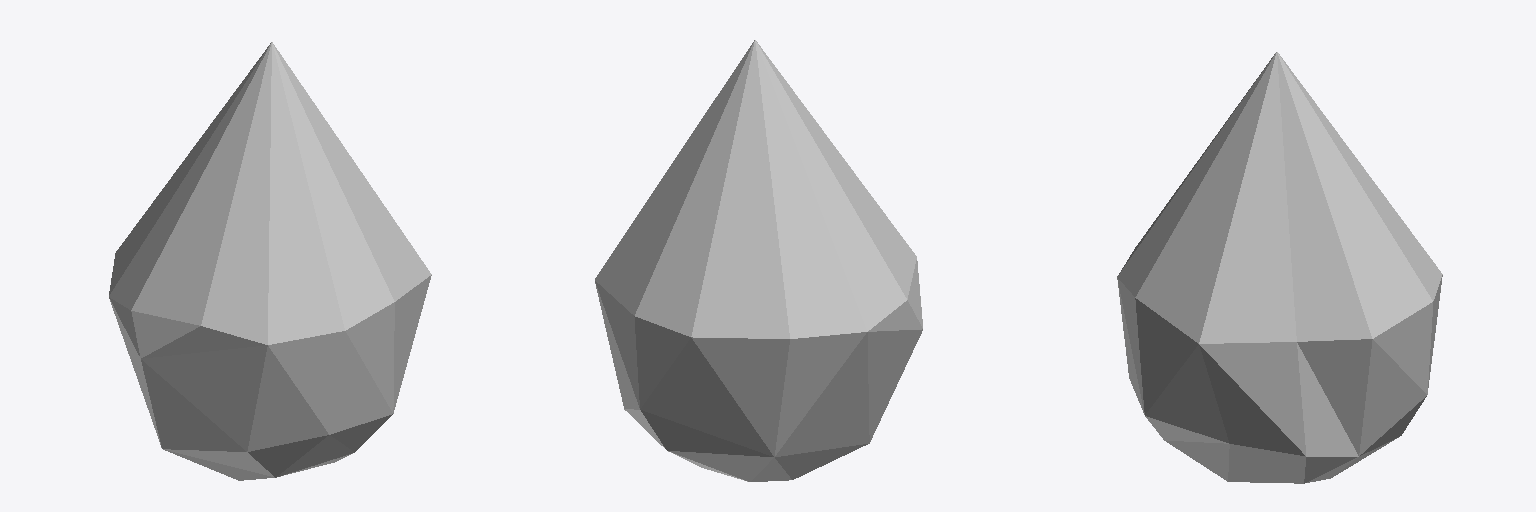
Rendered from WaterSpell.obj.
The picture shows the model from 3 angles: view 1: azimuth 30°, elevation 25°; view 2: azimuth 150°, elevation 25°; view 3: azimuth 270°, elevation 25°; orthographic projection.
Parts seen in each view (by area): view 1: Sphere_Sphere.004; view 2: Sphere_Sphere.004; view 3: Sphere_Sphere.004.
Boxes of the visible parts, x1,y1,x2,y2 form: Sphere_Sphere.004: [109, 42, 431, 480]; Sphere_Sphere.004: [595, 40, 922, 481]; Sphere_Sphere.004: [1117, 52, 1442, 483].
Size of the model in its own units: 1.94 by 2.9 by 2.02.